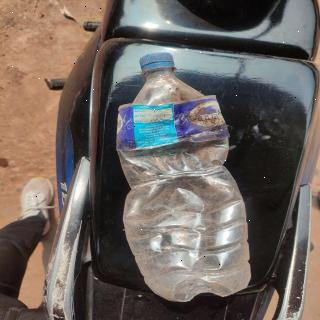Plastic-bottle: (112, 50, 256, 306)
